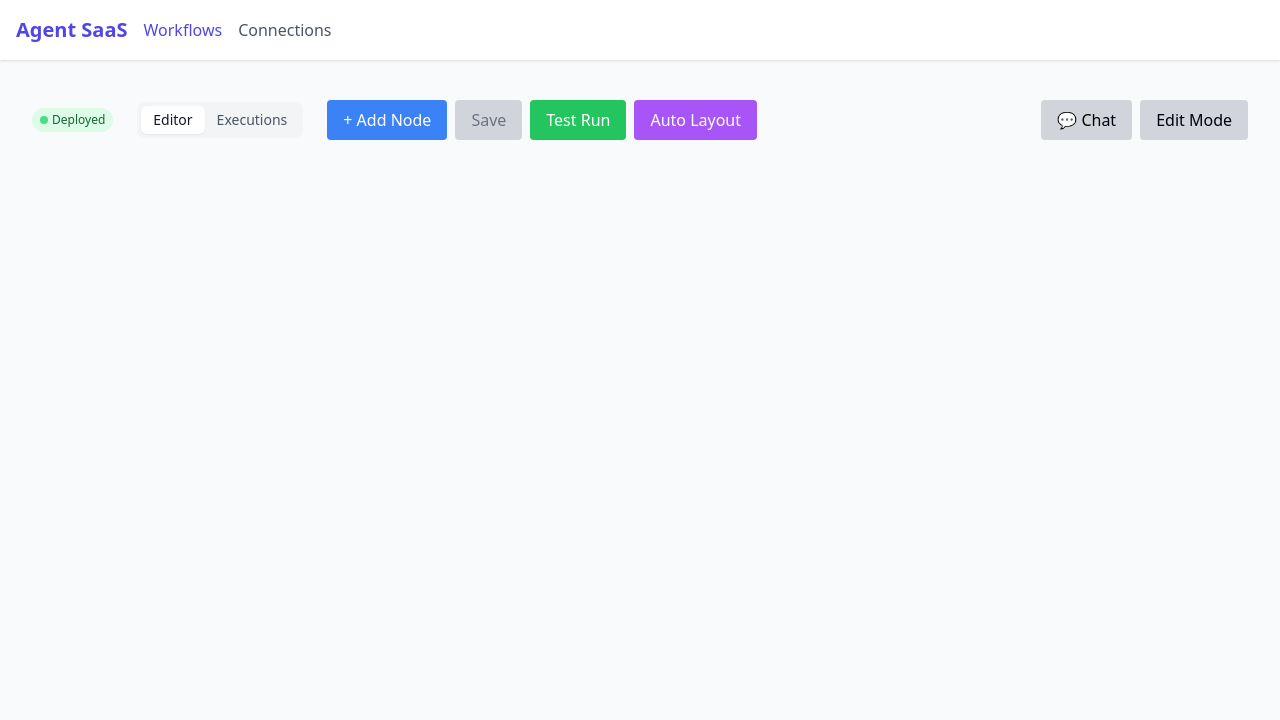
Test case: Workflow Builder - Realistic Tests › should close add node modal
The image size is (1280, 720).
Click the button "+ Add Node" at x=387, y=120, box [327,100,447,140]
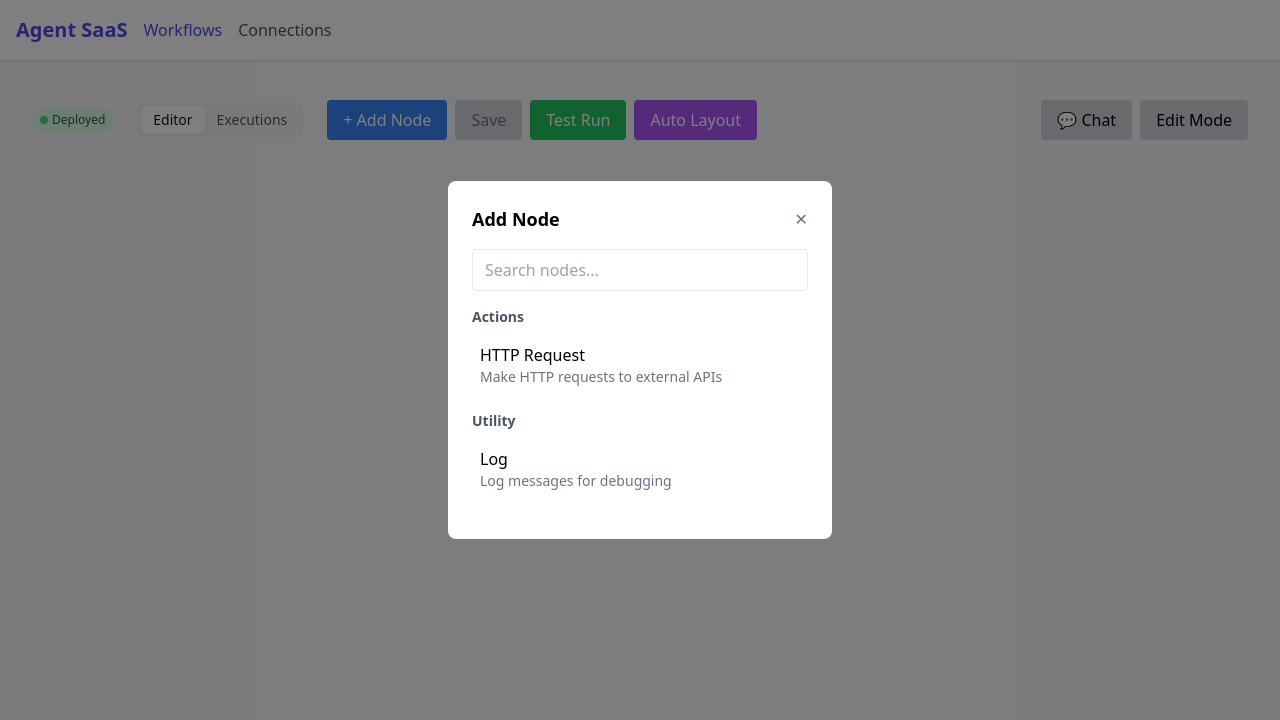
Click the button "✕" at x=802, y=219, box [795,207,808,231]
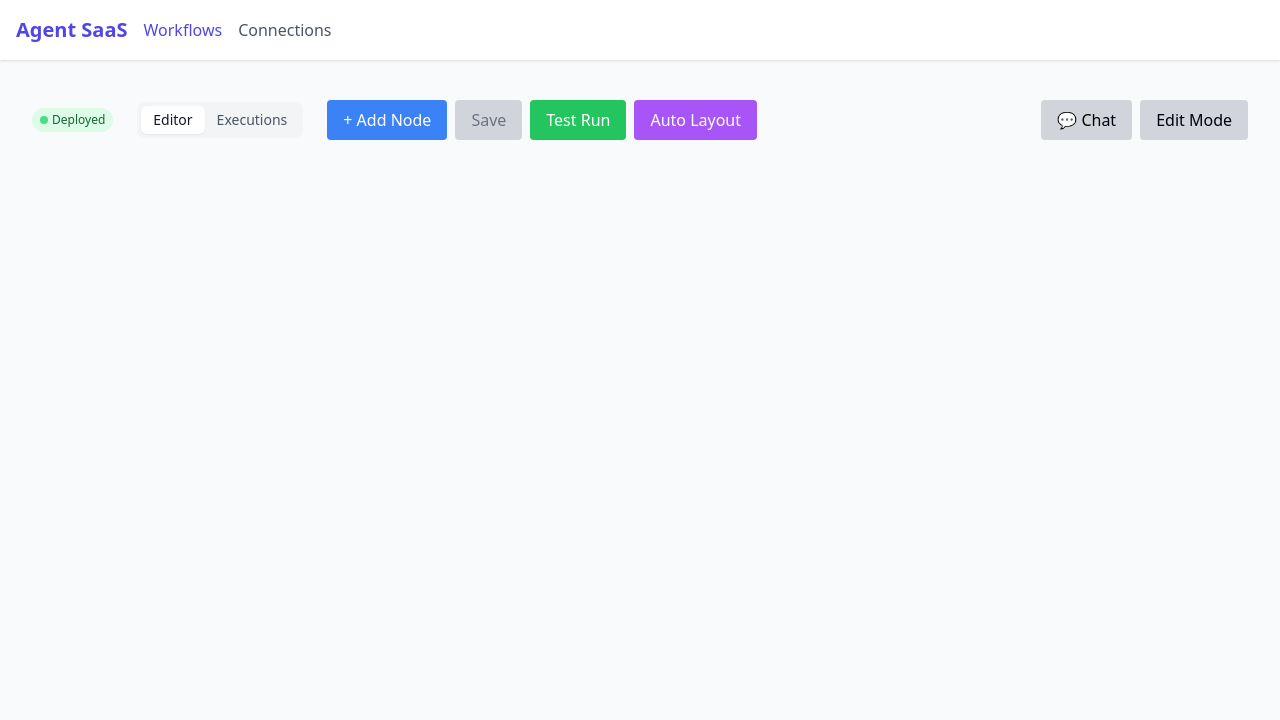
Check: the element with class "inset-0" is gone
